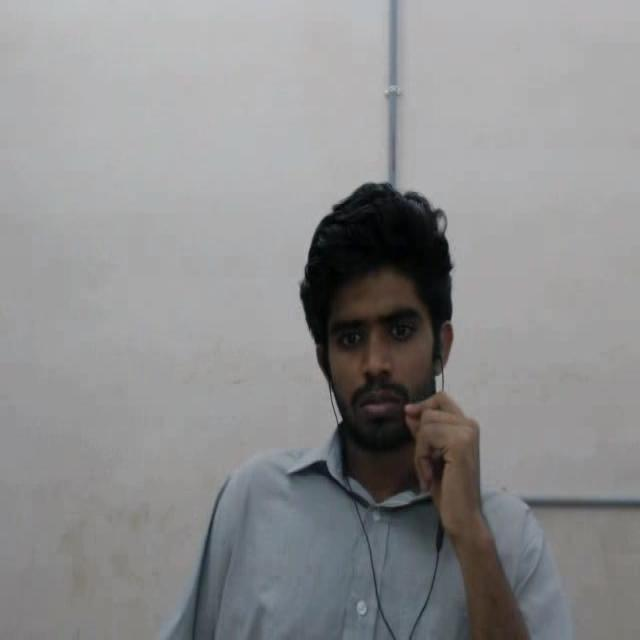Bored: (270, 169, 500, 488)
